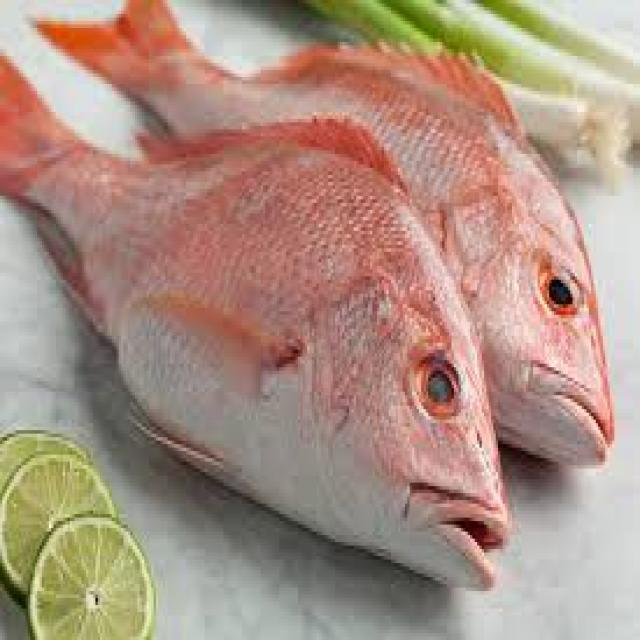northern-red-snapper: (23, 1, 622, 473), (0, 39, 507, 594)
